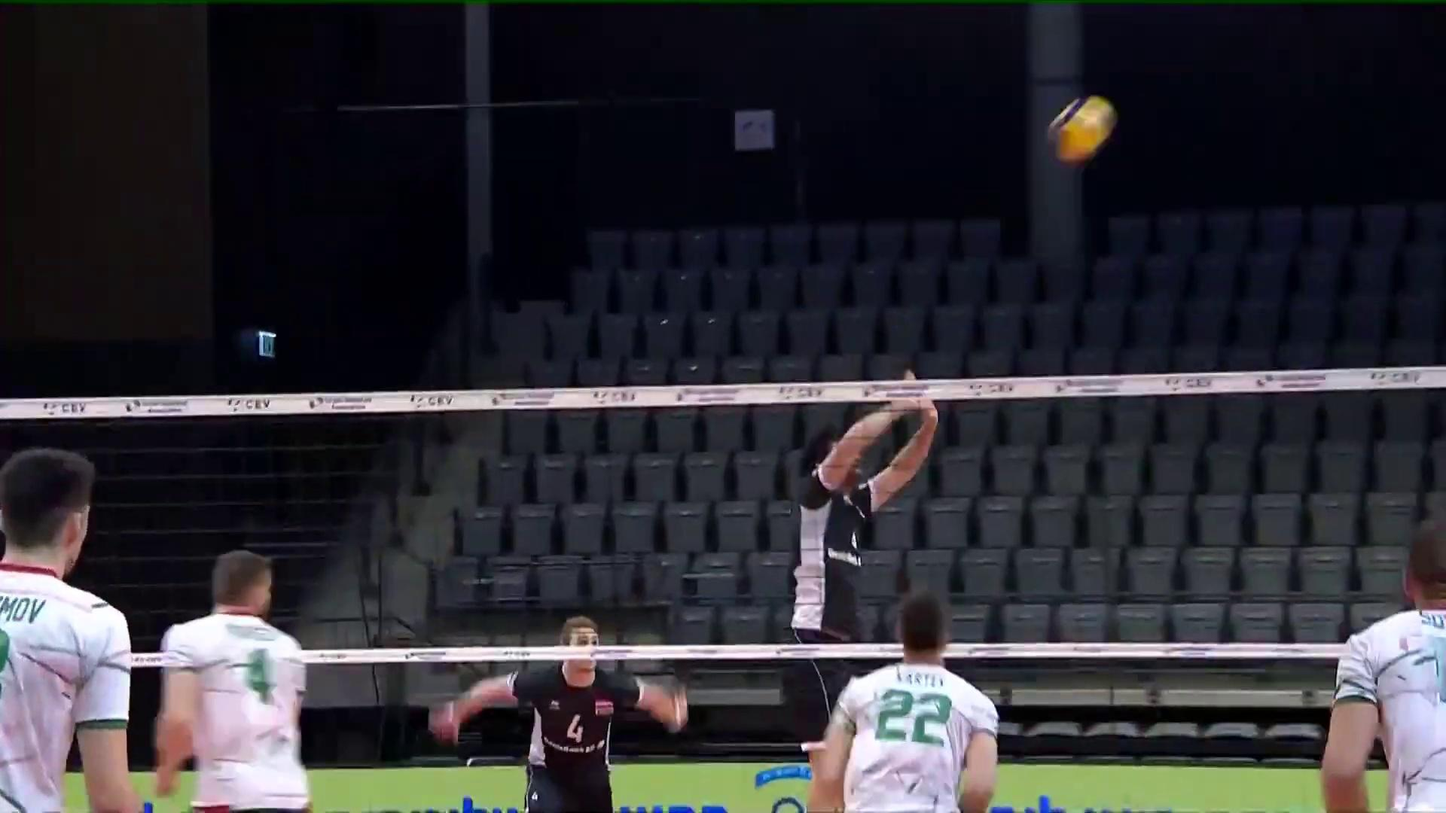ball: (1045, 94, 1122, 167)
